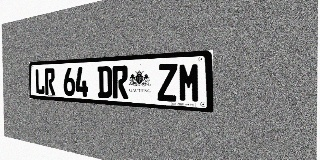4: (75, 67, 88, 97)
6: (63, 67, 75, 96)
D: (97, 66, 112, 98)
L: (35, 68, 45, 95)
M: (178, 62, 201, 103)
R: (112, 65, 128, 99), (45, 68, 55, 95)
Z: (157, 63, 178, 102)
